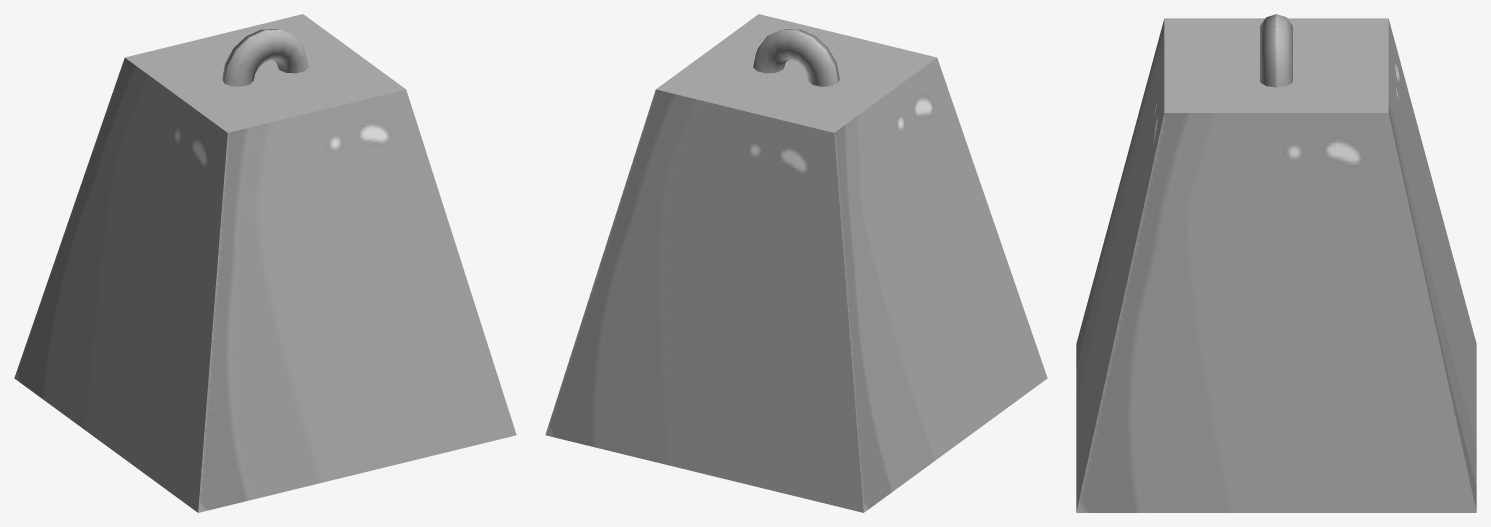
The model's file is PowerUP_Weight.fbx.
The picture shows the model from 3 angles, left to right: view 1: azimuth 30°, elevation 25°; view 2: azimuth 150°, elevation 25°; view 3: azimuth 270°, elevation 25°; orthographic projection. The views are drawn at different scales.
Visible parts, largest first — view 1: pTorus3; view 2: pTorus3; view 3: pTorus3.
Part boxes in pixels (x1,y1,x2,y2): pTorus3: (14, 14, 516, 512); pTorus3: (545, 14, 1047, 512); pTorus3: (1076, 14, 1476, 512).
Size of the model in its own units: 30 by 33.87 by 30.
1 material, 1 textured.
